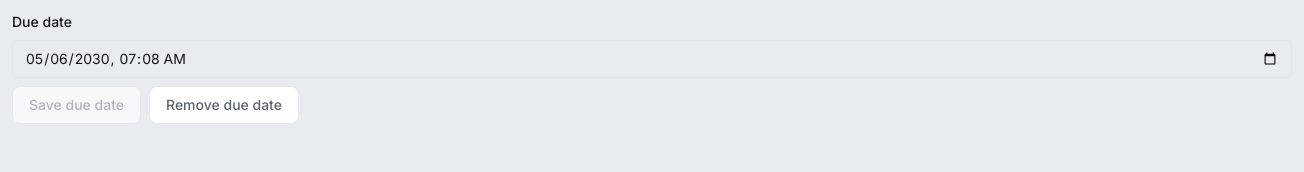
DueDateField › shows an error when removing fails
Click the button "Remove due date" at (224, 105), box top-left (149, 86), bottom-right (299, 124)
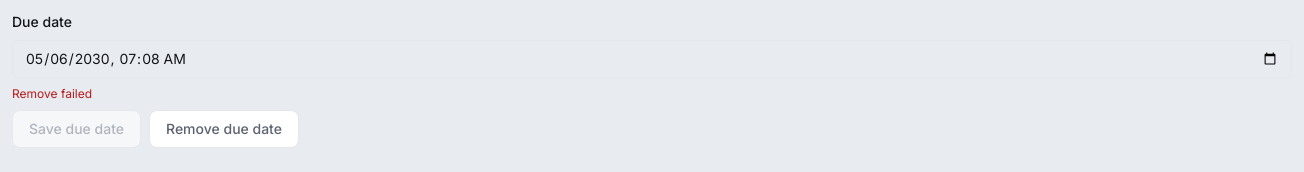
Check: the message reads "Remove failed", box top-left (12, 86), bottom-right (92, 101)
